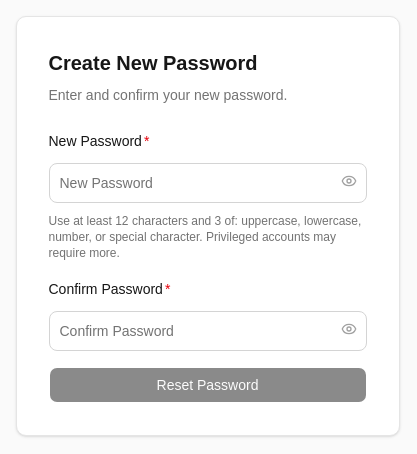
Test: ResetPassword › shows backend password-policy detail without treating link as invalid
The width and height of the screenshot is (417, 454).
Type "New-password1" into the password field with id "new-password" at (208,183), box [48, 163, 366, 203]
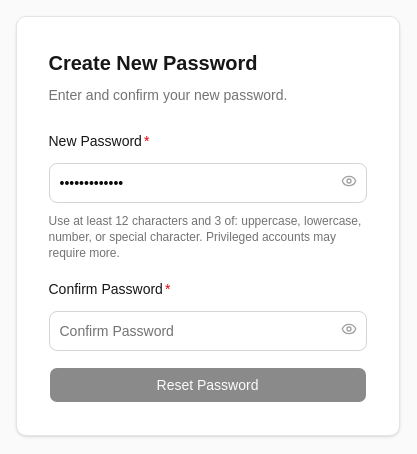
Type "New-password1" into the password field with id "confirm-password" at (208,331), box [48, 311, 366, 351]
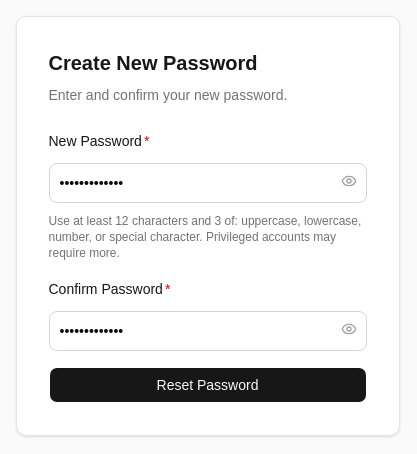
Click the button "Reset Password" at (208,385), box [48, 367, 366, 403]
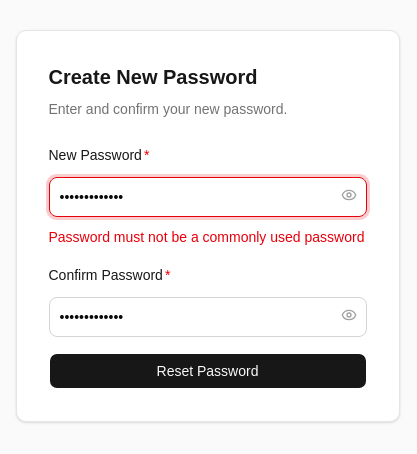
Now the text "Password must not be a commonly used password" is shown, box [48, 227, 366, 247]
